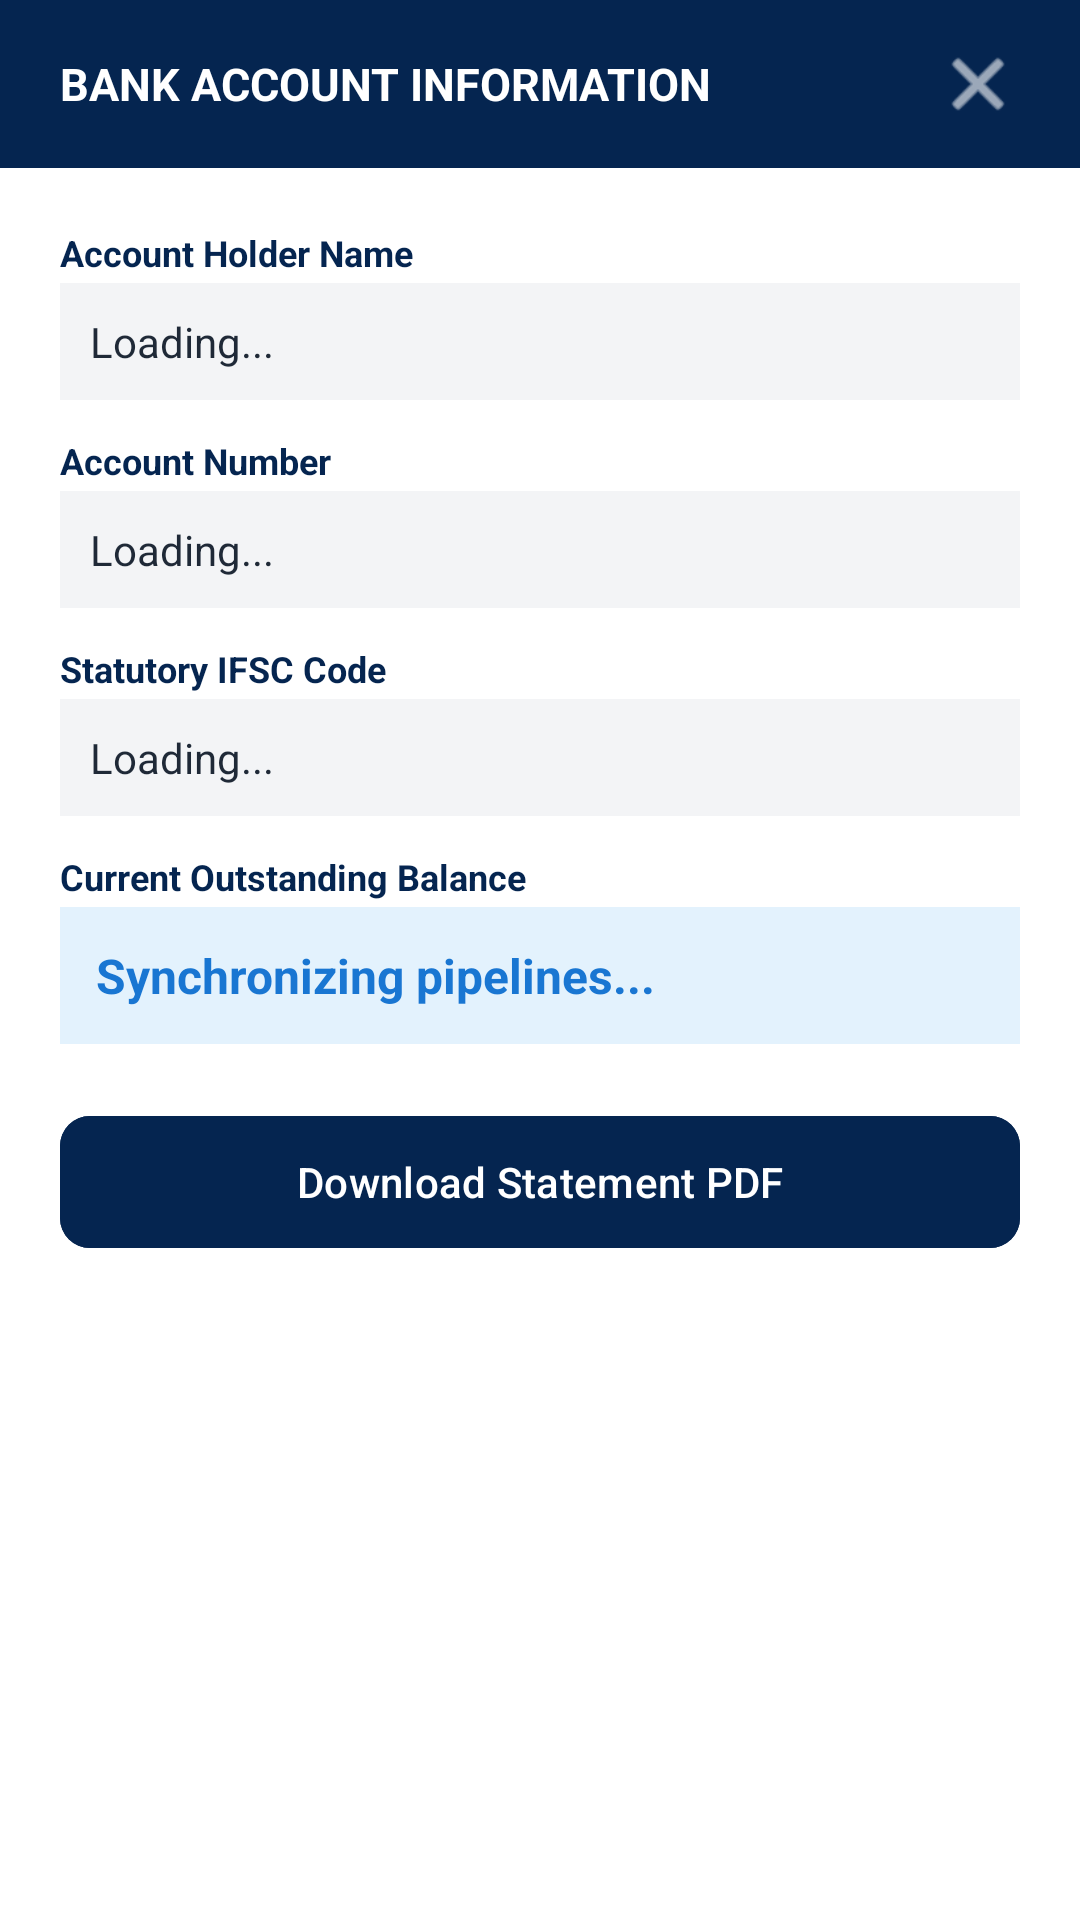

Screen size 1080*1920. Icon name, then its box in pixels as (x1, y1, x2, y2):
close clear cancel: (952, 58, 1004, 110)
